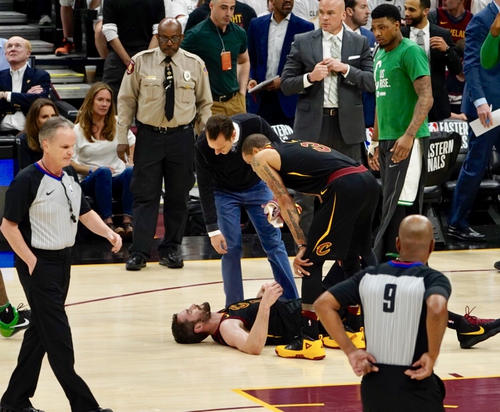10+: (1, 1, 500, 412)
down: (167, 277, 500, 353)
